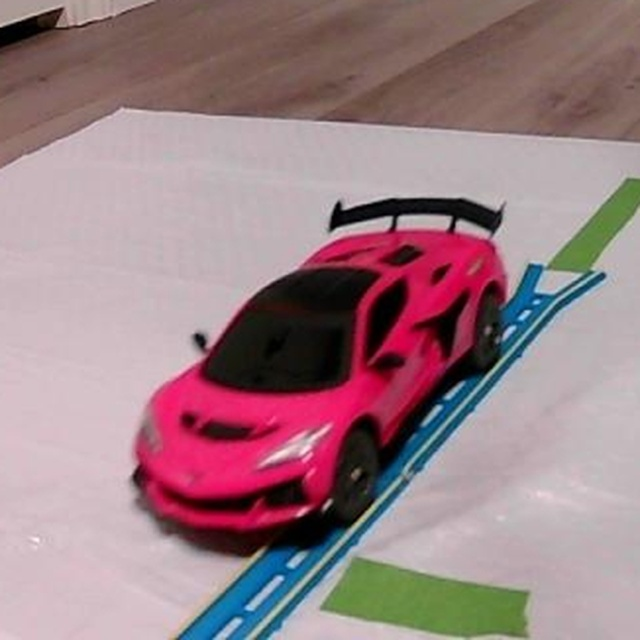tire_front_driver: (330, 440, 385, 525)
tire_rear_driver: (465, 295, 505, 370)
